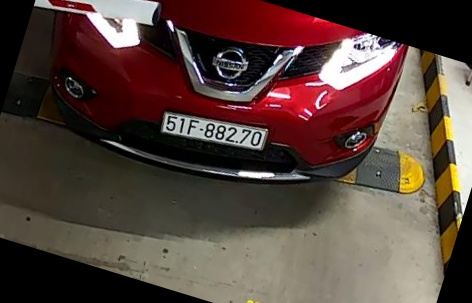plate: (156, 106, 278, 160)
